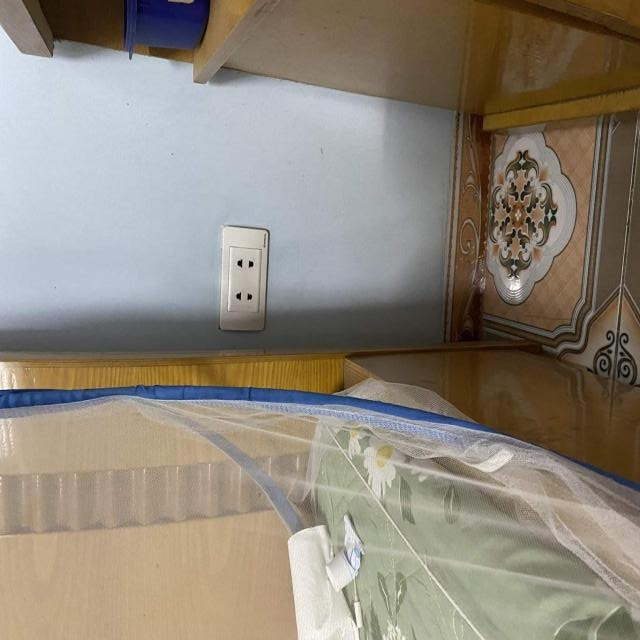outlet: (219, 227, 269, 333)
